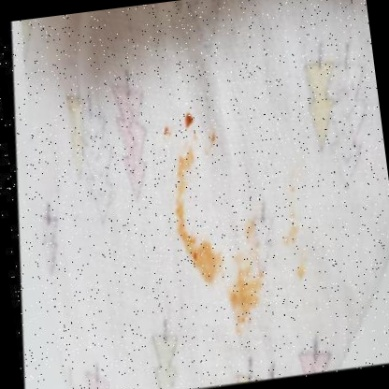kimchi: (148, 151, 207, 242), (221, 247, 275, 328), (176, 239, 221, 289), (277, 185, 308, 247), (178, 101, 203, 128), (240, 215, 260, 243), (157, 118, 175, 139), (206, 130, 221, 147), (296, 265, 306, 280)
